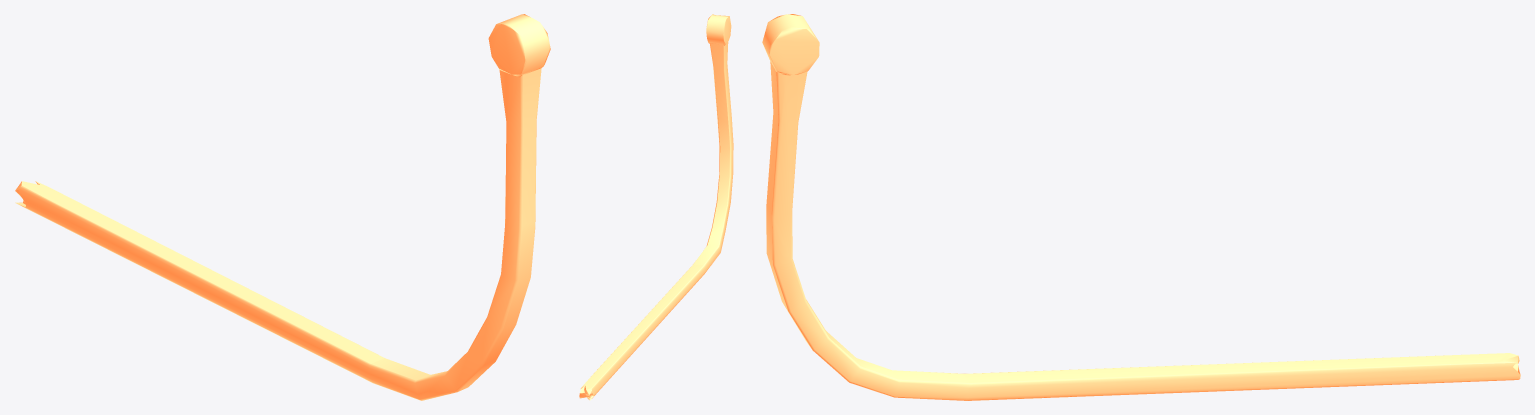
Rendered from SM_Trim_RailOfficer.fbx.
3 renders of one model, left to right at view 1: azimuth 30°, elevation 25°; view 2: azimuth 150°, elevation 25°; view 3: azimuth 270°, elevation 25°, orthographic. The views are drawn at different scales.
Parts seen in each view (by area): view 1: SM_Trim_RailOfficer_LOD0; view 2: SM_Trim_RailOfficer_LOD0; view 3: SM_Trim_RailOfficer_LOD0.
Part boxes in pixels (bbox=[...]): SM_Trim_RailOfficer_LOD0: bbox=[15, 14, 550, 400]; SM_Trim_RailOfficer_LOD0: bbox=[579, 14, 733, 400]; SM_Trim_RailOfficer_LOD0: bbox=[762, 14, 1520, 400].
Size of the model in its own units: 171 by 768 by 461.
